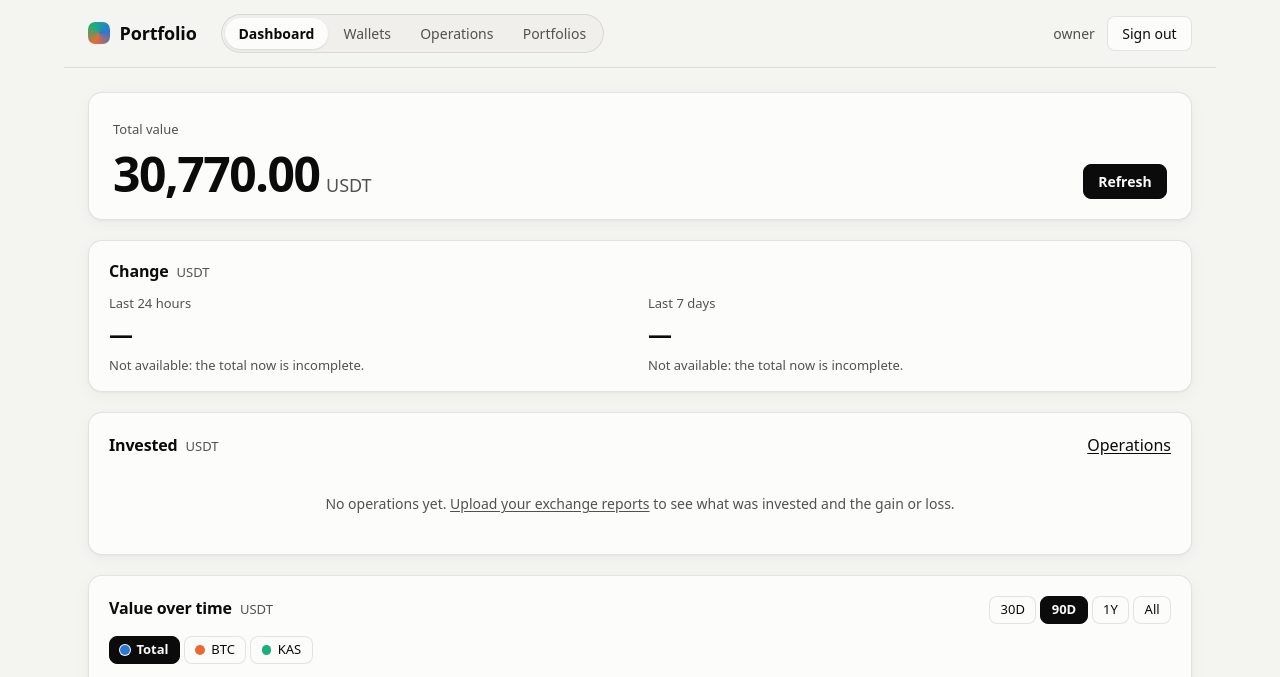
Test: DashboardPage: the value over time › each asset as a line of its own (spec 041) › falls back to the total when the asset chosen is no longer in the history
Click the button "KAS": (281, 650) [250,636,313,664]
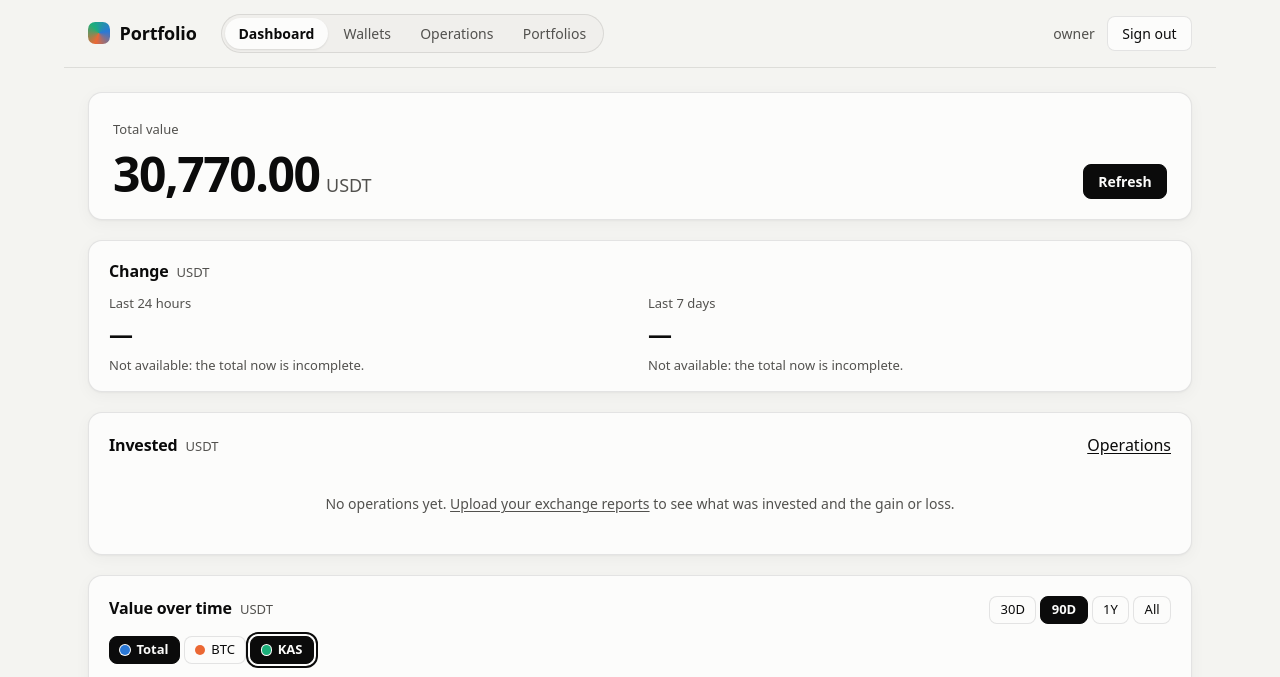
Click the button "Total": (144, 650) [109,636,180,664]
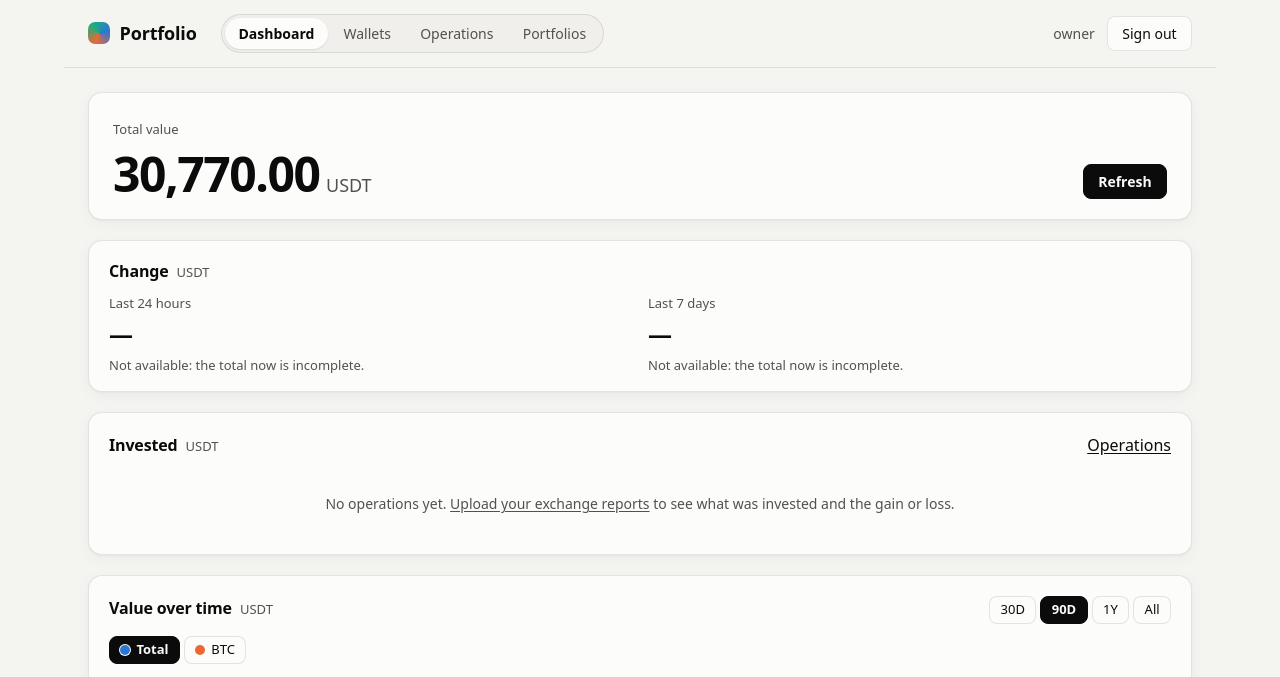
Now the buttons read "Total", "BTC", in this order, box [109,636,180,664]; [184,636,246,664]
